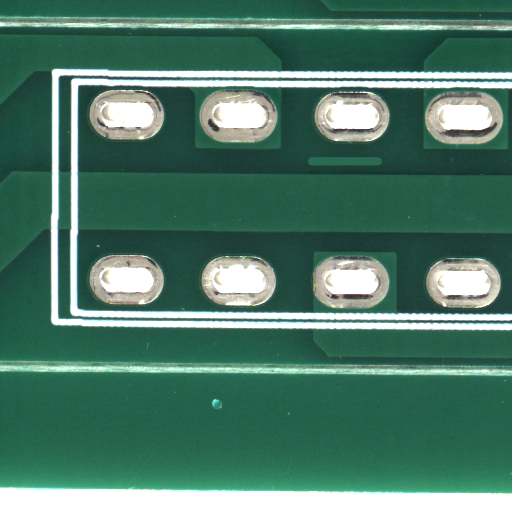Spurious_copper: (344, 160, 420, 174)
